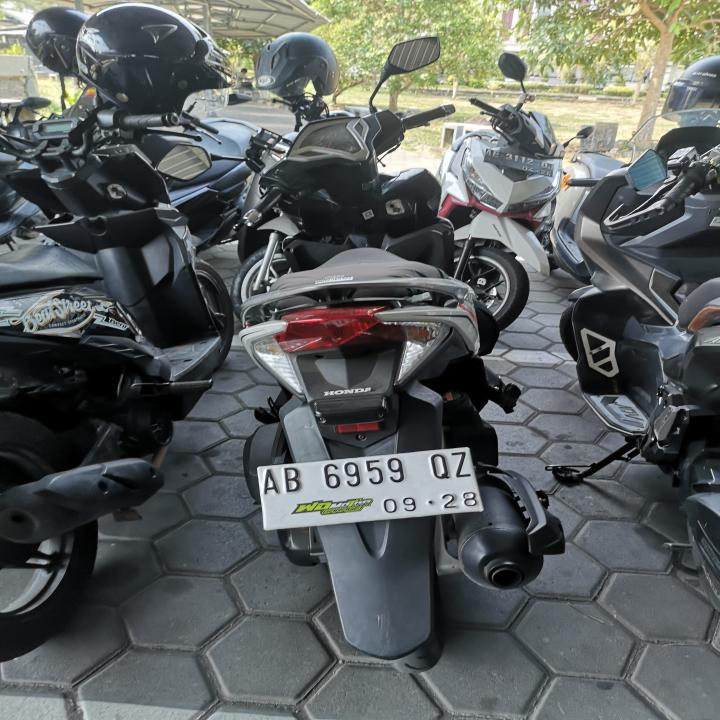plate: (252, 443, 487, 532), (482, 147, 555, 178)
